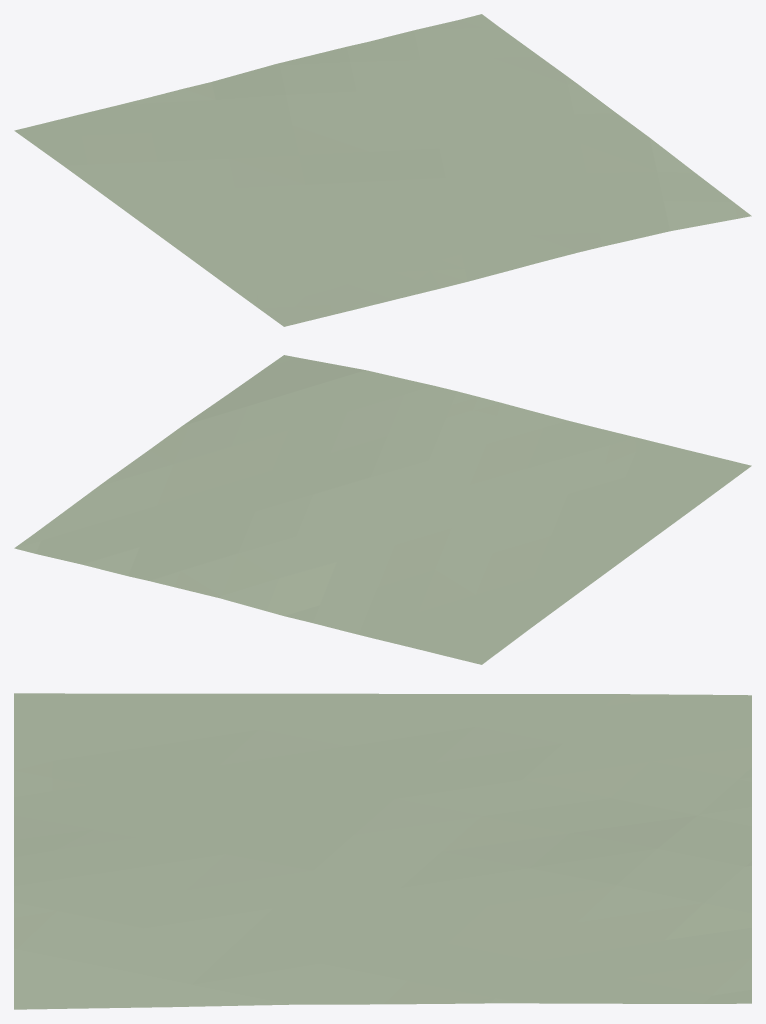
The model's file is SM_MPRR_Terrain_1_1.fbx.
3 renders of one model, top to bottom at view 1: azimuth 30°, elevation 25°; view 2: azimuth 150°, elevation 25°; view 3: azimuth 270°, elevation 25°, orthographic. The views are drawn at different scales.
Visible parts, largest first — view 1: SM_MPRR_Terrain_1_1; view 2: SM_MPRR_Terrain_1_1; view 3: SM_MPRR_Terrain_1_1.
Part boxes in pixels (left/top/right/bottom): SM_MPRR_Terrain_1_1: left=14, top=14, right=751, bottom=326; SM_MPRR_Terrain_1_1: left=14, top=355, right=751, bottom=664; SM_MPRR_Terrain_1_1: left=14, top=693, right=751, bottom=1009.
Bounding box in the file's own units: 15000 × 15000 × 183.
